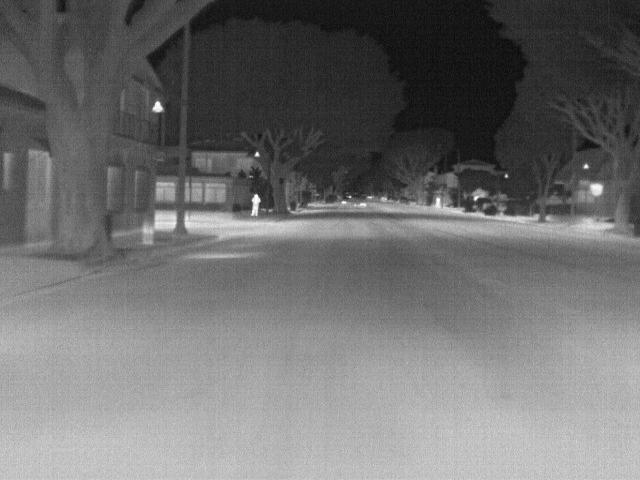person: (249, 192, 262, 218)
